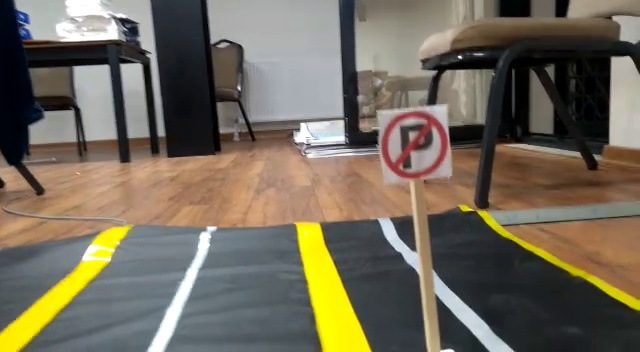park_yapilmaz: (377, 111, 451, 179)
